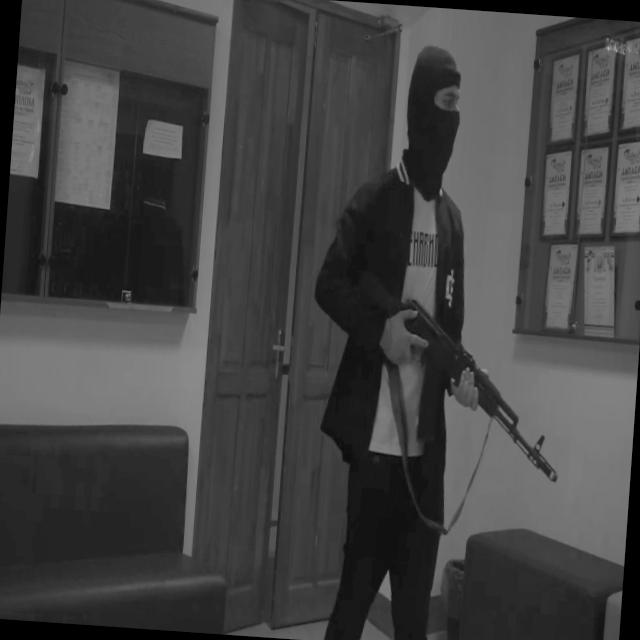gun: (341, 262, 572, 484)
person with a gun: (289, 38, 588, 640)
